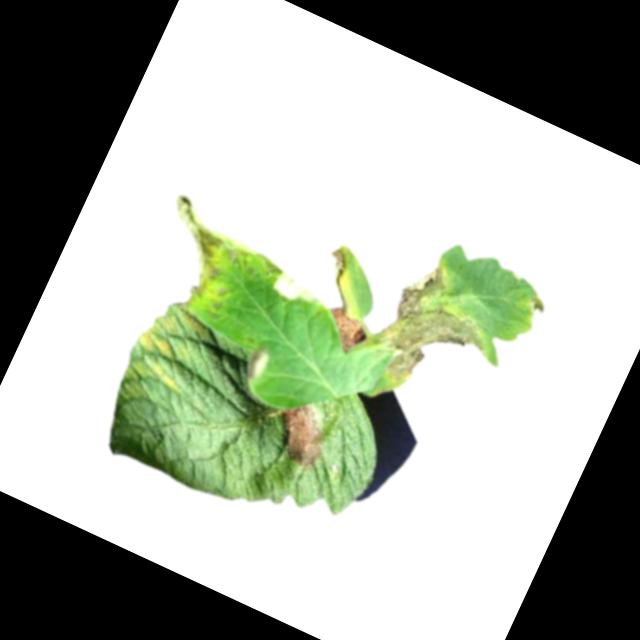Late_blight: (365, 255, 506, 407), (134, 192, 243, 314), (265, 395, 339, 473), (314, 301, 374, 360), (268, 267, 325, 315), (317, 244, 355, 291), (239, 344, 273, 385), (520, 292, 552, 322)
